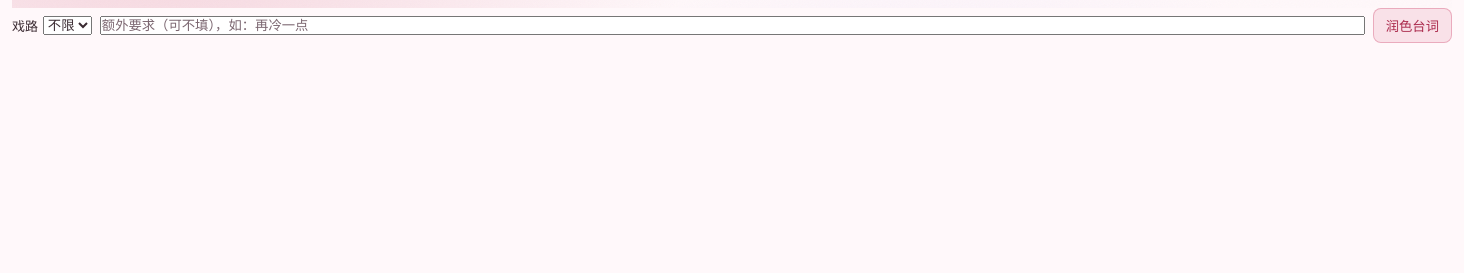
DialoguePolishReview › shows what changed, lets lines be unticked, and writes back only the ticked ones
The width and height of the screenshot is (1464, 273).
Later steps or results of the test are not shown.
Select "吵架" in the dropdown at (67, 26), box [43, 16, 92, 35]
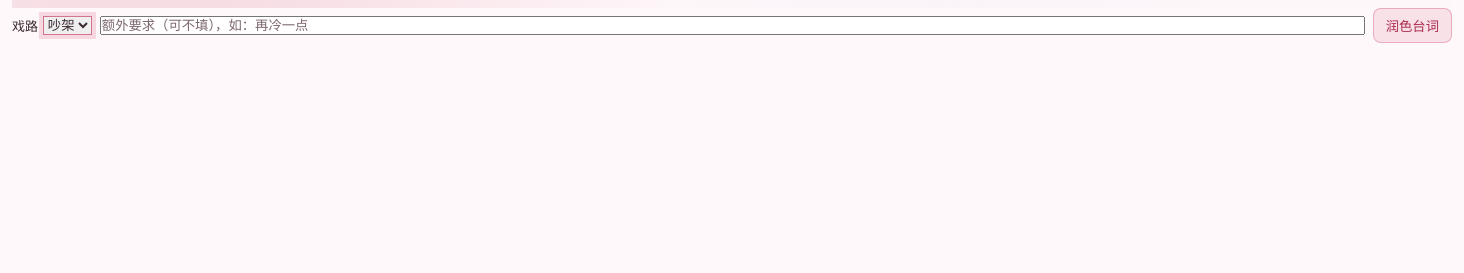
Click the button "润色台词" at (1412, 26), box [1373, 8, 1452, 43]
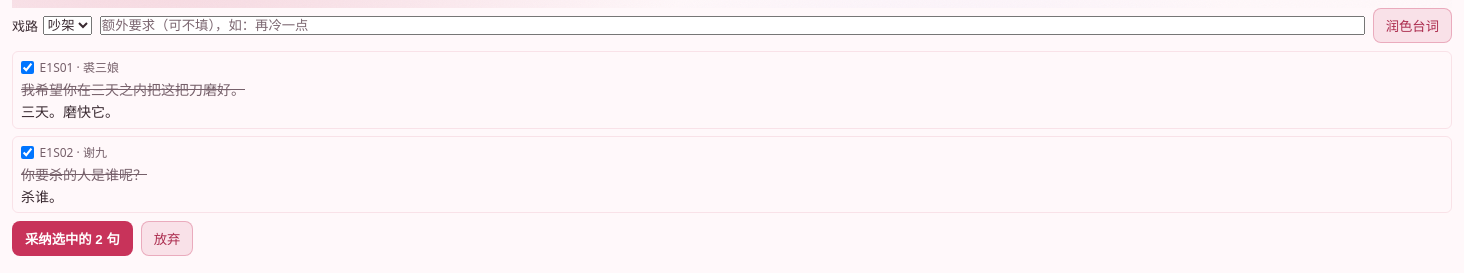
Check: the number of list items is 2, box [12, 51, 1452, 129]; [12, 136, 1452, 213]
